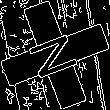N_E: (24, 27, 86, 83)
